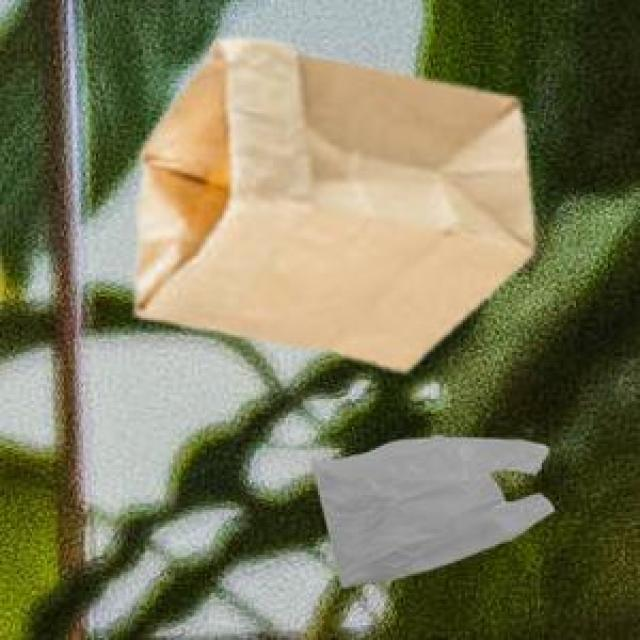paper: (132, 38, 529, 367)
